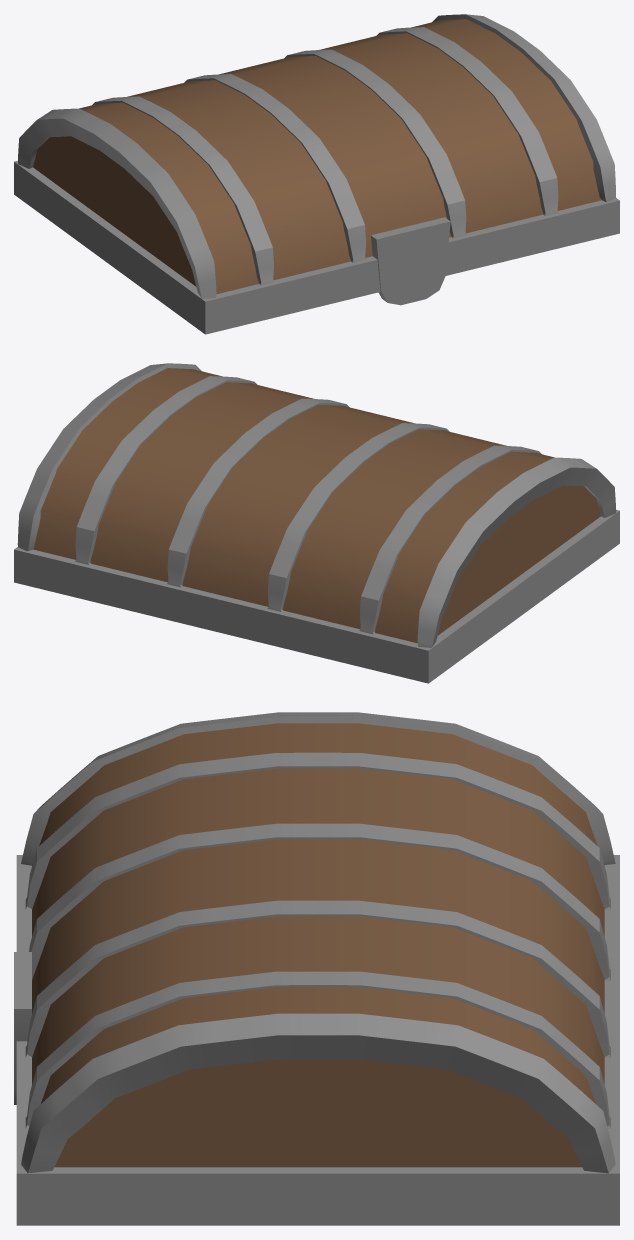
File: chest_top.glb
The picture shows the model from 3 angles, top to bottom: view 1: azimuth 30°, elevation 25°; view 2: azimuth 150°, elevation 25°; view 3: azimuth 270°, elevation 25°; orthographic projection. The views are drawn at different scales.
Visible parts, largest first — view 1: chest_top; view 2: chest_top; view 3: chest_top.
Boxes of the visible parts, box(x1,y1,x2,y2) form: chest_top: box(14, 14, 619, 334); chest_top: box(14, 363, 619, 683); chest_top: box(14, 712, 619, 1225).
Size of the model in its own units: 1.55 by 0.5097 by 1.23.
1 material, 1 textured.
